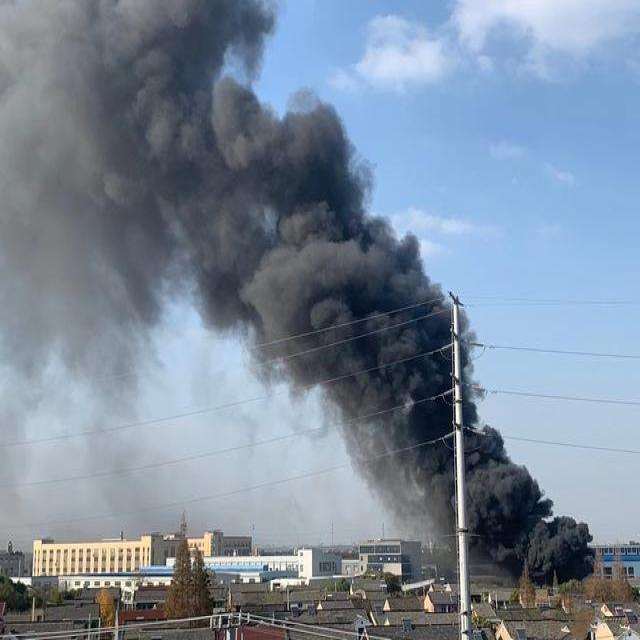Smoke: (0, 0, 452, 388), (466, 404, 592, 577), (336, 394, 456, 540)
